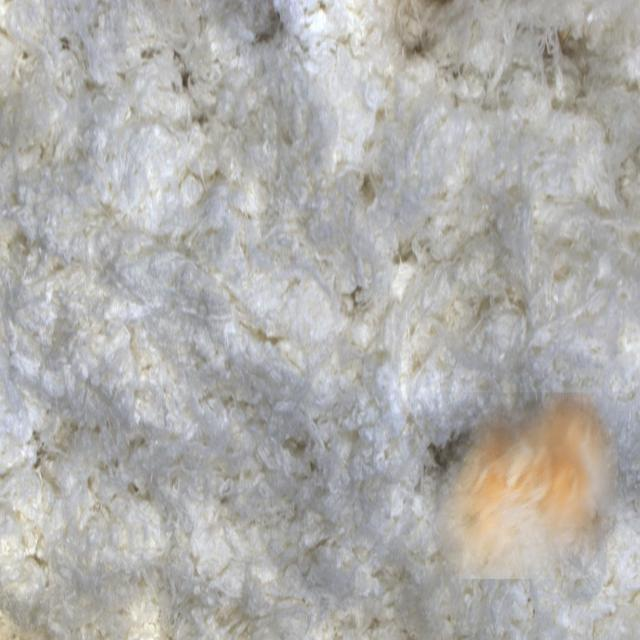dust: (436, 392, 618, 579)
